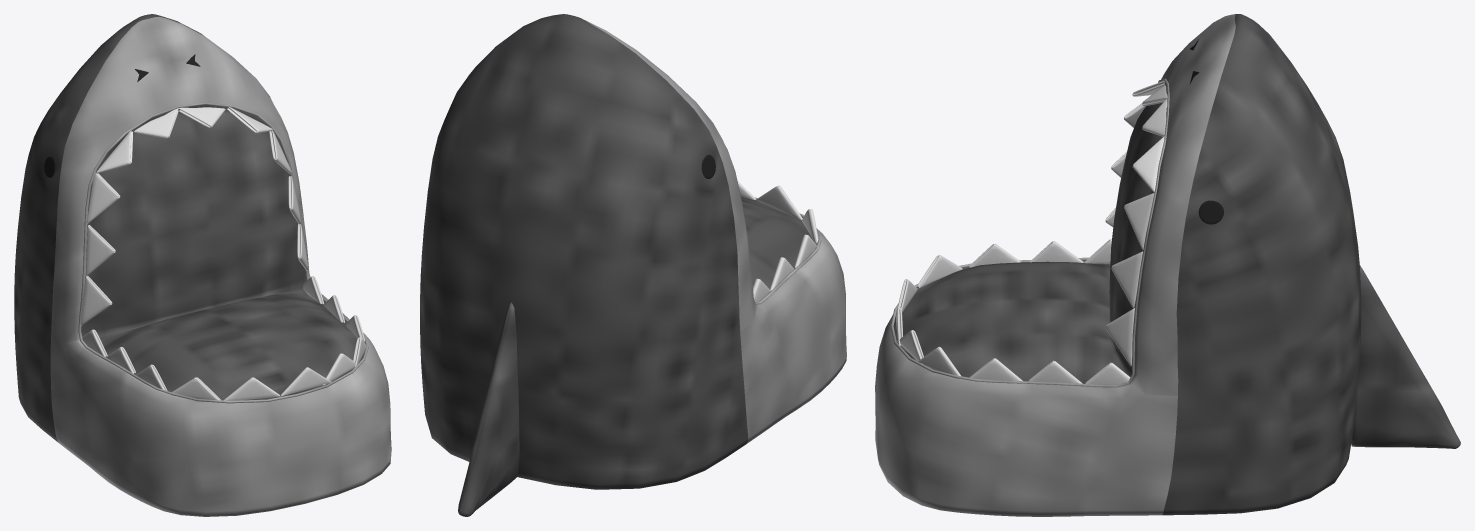
File: uploads_files_2814665_Sharky+the+Shark+Kids+Small+Bean+Bag+Chair.fbx
The picture shows the model from 3 angles, left to right: view 1: azimuth 30°, elevation 25°; view 2: azimuth 150°, elevation 25°; view 3: azimuth 270°, elevation 25°; orthographic projection. The views are drawn at different scales.
Parts seen in each view (by area): view 1: Sharky the Shark Kids Small Bean Bag Chair; view 2: Sharky the Shark Kids Small Bean Bag Chair; view 3: Sharky the Shark Kids Small Bean Bag Chair.
Boxes of the visible parts, x1=… form: Sharky the Shark Kids Small Bean Bag Chair: x1=14, y1=14, x2=391, y2=516; Sharky the Shark Kids Small Bean Bag Chair: x1=420, y1=14, x2=846, y2=516; Sharky the Shark Kids Small Bean Bag Chair: x1=875, y1=14, x2=1460, y2=516.
Size of the model in its own units: 45.97 by 64.77 by 79.76.
